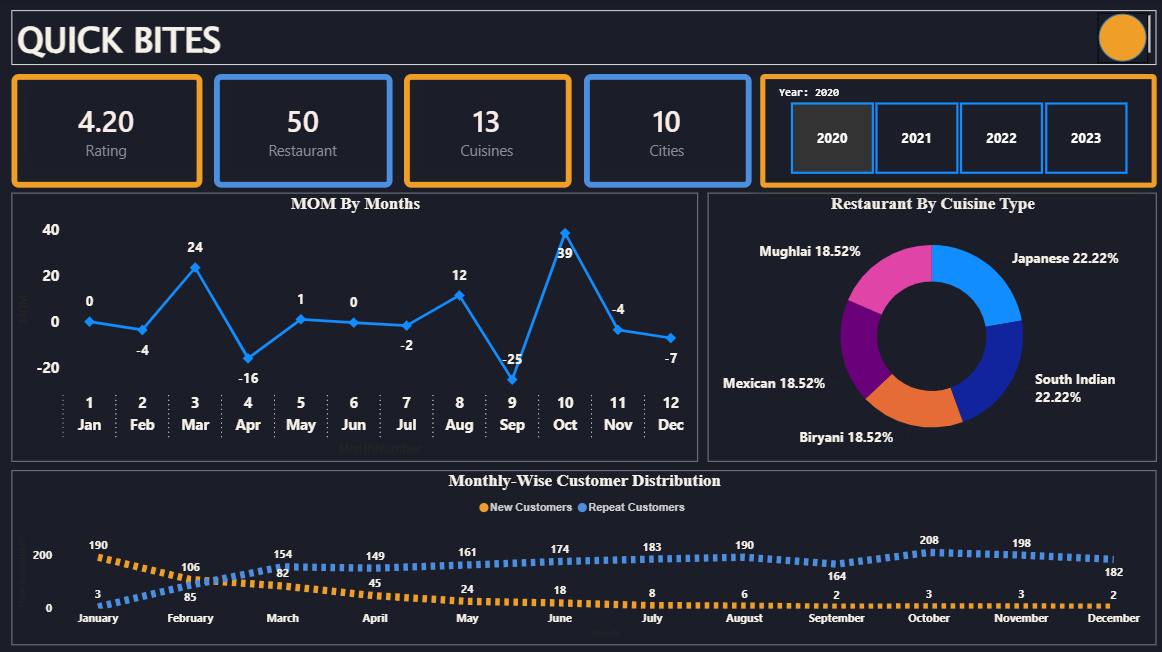

This screenshot's page, from the dashboard's own definition file:
{"tool":"powerbi","page":{"name":"RESTAURANT REPORT","canvas":[1280,720],"ordinal":1},"visuals":[{"type":"donutChart","title":"Restaurant By Cuisine Type","fields":{"Y":["RESTAURANT.total restaurant"],"Category":["RESTAURANT.Cuisine_Type"]},"box":[778,212.7,492.6,295],"z":0},{"type":"lineChart","title":"MOM By Months","fields":{"Y":["FACT_ORDERS.MOM"],"Category":["calendar.MONTHS","calendar.MonthNumber"]},"box":[13.7,212.7,753.3,295],"z":1000},{"type":"slicer","fields":{"Values":["calendar.Date.Variation.Date Hierarchy.Year"]},"box":[835.7,82.3,435,124.9],"z":2000},{"type":"lineChart","title":"Monthly-Wise Customer Distribution","fields":{"Category":["calendar.Date.Variation.Date Hierarchy.Month"],"Y":["FACT_ORDERS.New Customers","FACT_ORDERS.Repeat Customers"]},"box":[13.7,517.3,1257,192.1],"z":3000},{"type":"textbox","box":[13.7,12.3,1257,60.4],"z":4000},{"type":"cardVisual","fields":{"Data":["RESTAURANT.average rating"]},"box":[13.7,82.3,209.9,124.9],"z":5000},{"type":"cardVisual","fields":{"Data":["RESTAURANT.total restaurant"]},"box":[236,82.3,196.2,124.9],"z":6000},{"type":"cardVisual","fields":{"Data":["RESTAURANT.total cities"]},"box":[642.2,82.3,183.9,124.9],"z":7000},{"type":"cardVisual","fields":{"Data":["RESTAURANT.total cuisine"]},"box":[444.6,82.3,183.9,124.9],"z":8000},{"type":"shape","box":[1206.2,15.1,54.9,54.9],"z":9000}]}

Visuals, with their boxes in screenshot pixels (x1, y1, x2, y2), scaled from the page's 1280x720 canvas onto the 1162x652 screenshot:
"Restaurant By Cuisine Type" donutChart: left=706, top=193, right=1153, bottom=460
"MOM By Months" lineChart: left=12, top=193, right=696, bottom=460
slicer - calendar.Date.Variation.Date Hierarchy.Year: left=759, top=75, right=1154, bottom=188
"Monthly-Wise Customer Distribution" lineChart: left=12, top=468, right=1154, bottom=642
textbox: left=12, top=11, right=1154, bottom=66
cardVisual - RESTAURANT.average rating: left=12, top=75, right=203, bottom=188
cardVisual - RESTAURANT.total restaurant: left=214, top=75, right=392, bottom=188
cardVisual - RESTAURANT.total cities: left=583, top=75, right=750, bottom=188
cardVisual - RESTAURANT.total cuisine: left=404, top=75, right=571, bottom=188
shape: left=1095, top=14, right=1145, bottom=63
